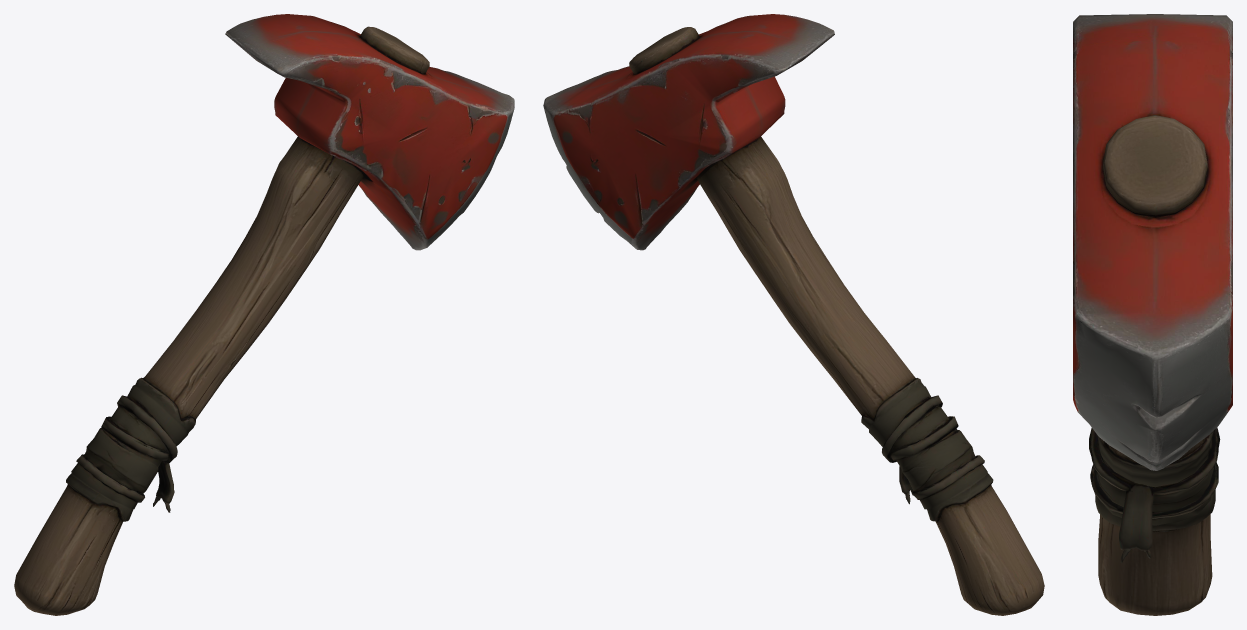
File: 019f027f-d979-7aa6-be21-263ea661eba3.glb
The picture shows the model from 3 angles, left to right: view 1: azimuth 30°, elevation 25°; view 2: azimuth 150°, elevation 25°; view 3: azimuth 270°, elevation 25°; orthographic projection. The views are drawn at different scales.
Parts seen in each view (by area): view 1: tripo_node_02ad3ae2-1eda-44a4-b47a-d41a58ba3334; view 2: tripo_node_02ad3ae2-1eda-44a4-b47a-d41a58ba3334; view 3: tripo_node_02ad3ae2-1eda-44a4-b47a-d41a58ba3334.
Boxes of the visible parts, left/top/right/bottom form: tripo_node_02ad3ae2-1eda-44a4-b47a-d41a58ba3334: left=14, top=14, right=514, bottom=615; tripo_node_02ad3ae2-1eda-44a4-b47a-d41a58ba3334: left=543, top=14, right=1044, bottom=615; tripo_node_02ad3ae2-1eda-44a4-b47a-d41a58ba3334: left=1073, top=14, right=1232, bottom=615.
Bounding box in the file's own units: 0.998 × 0.998 × 0.1973.
1 material, 1 textured.
